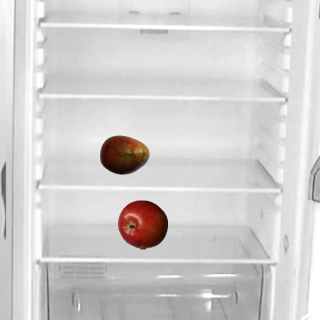Apple Braeburn: (117, 199, 167, 249)
Mango Red: (99, 129, 149, 179)
